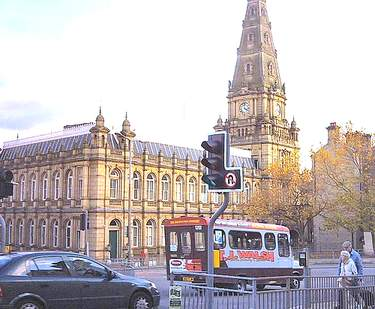Bus: (162, 216, 305, 293)
Person: (337, 240, 363, 287)
car: (0, 251, 161, 309)
